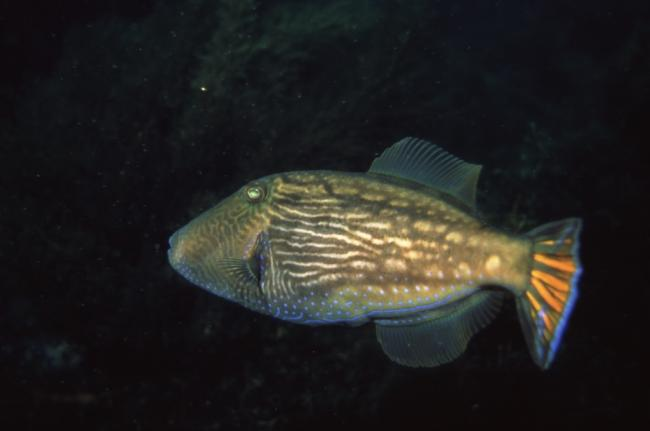fish: (166, 136, 584, 373)
